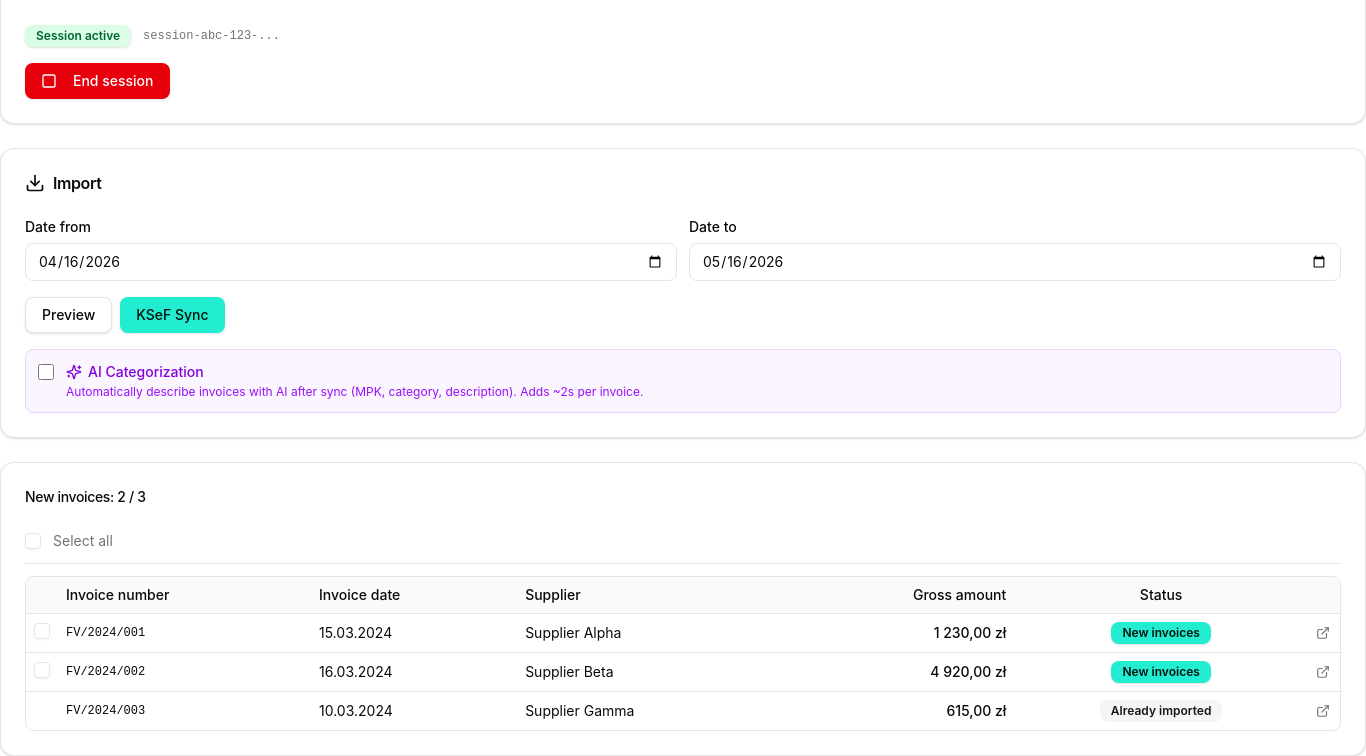
Test: SyncPage › select all checks all new invoices
(page scrolled)
Use select-all checkbox (has aria-label)
Click the checkbox named "Select all".
click(33, 541)  # box [25,533,41,549]
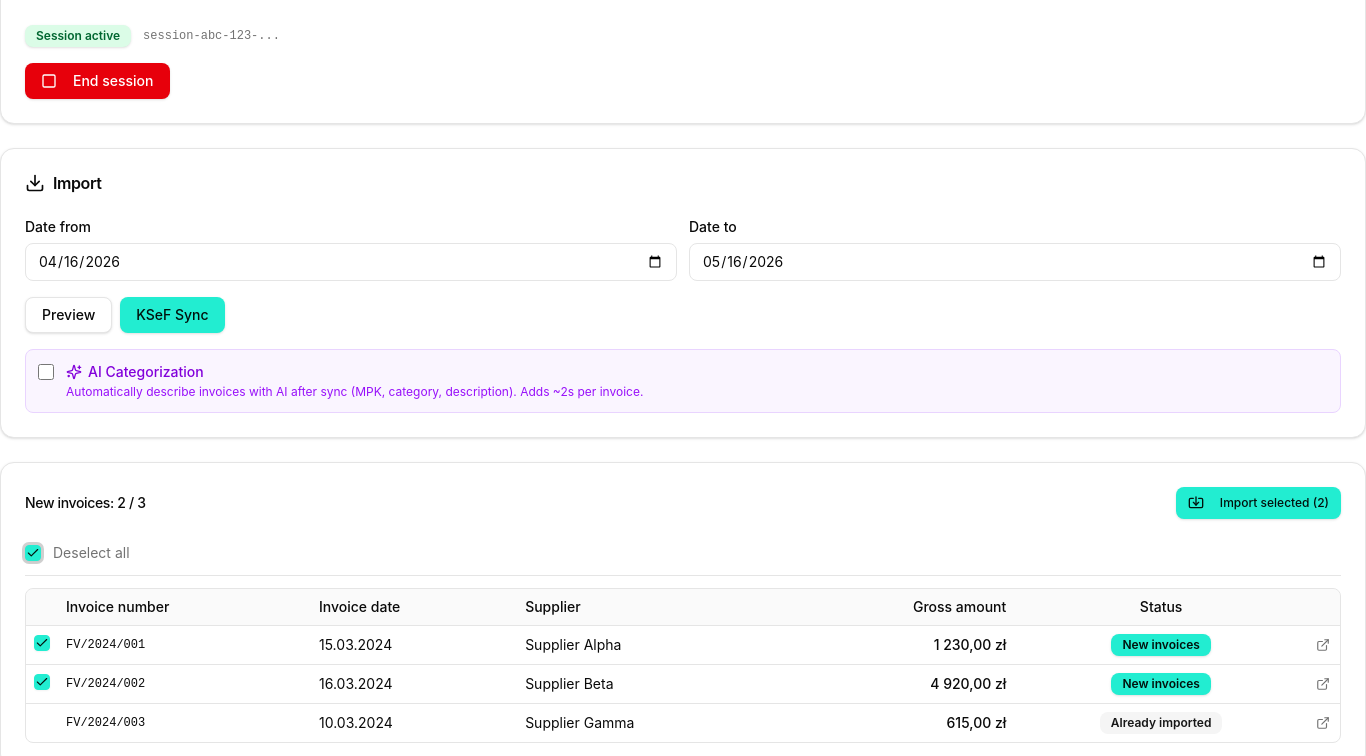
Result: the button "Import selected (2)" is shown at [1176,487,1341,519]
